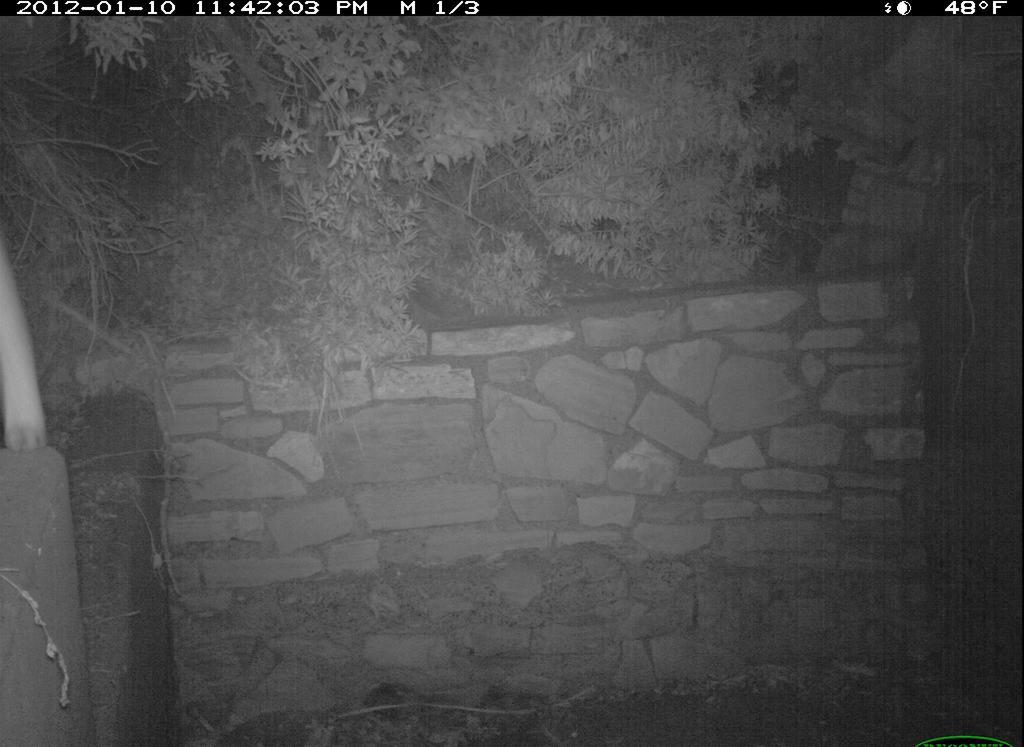bobcat: (1, 212, 58, 467)
